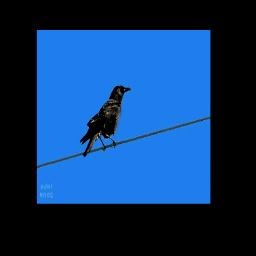Crow: (79, 84, 134, 157)
